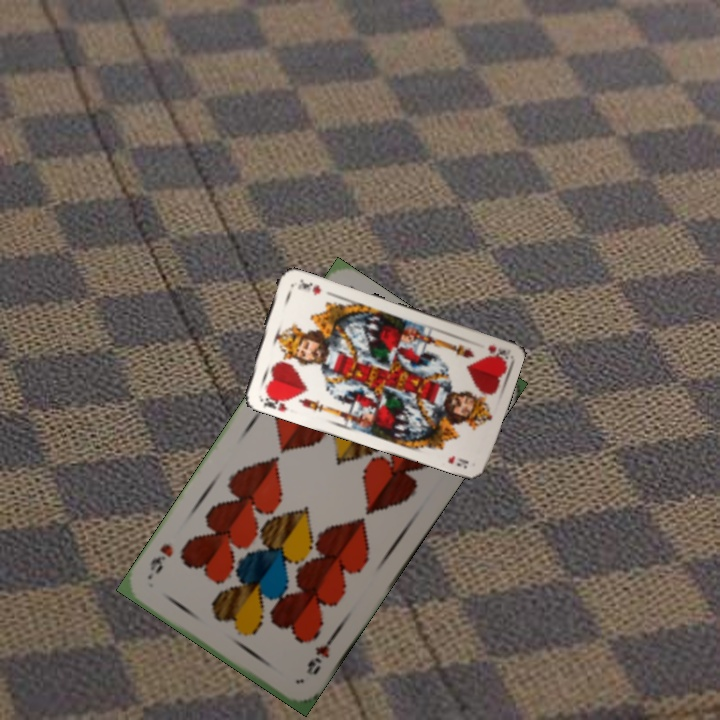H9: (302, 632, 338, 678)
HK: (254, 389, 292, 414), (484, 340, 509, 359)
